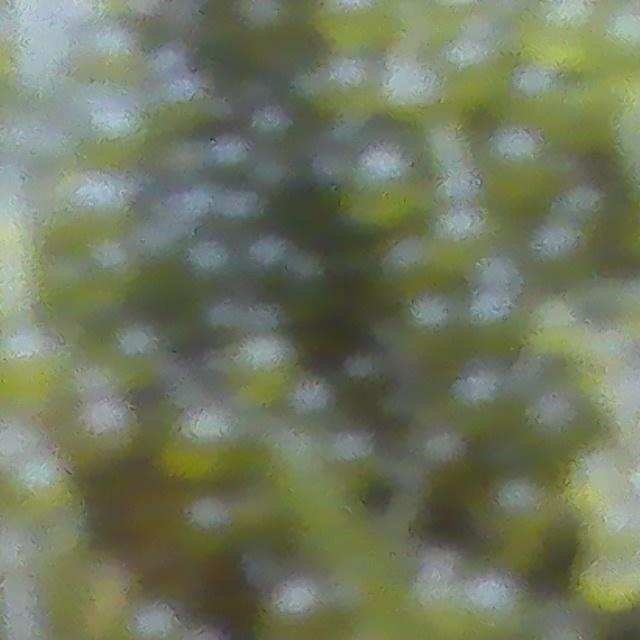SeaGrape: (0, 322, 70, 406), (381, 56, 441, 117), (593, 1, 640, 68), (530, 0, 595, 42)
